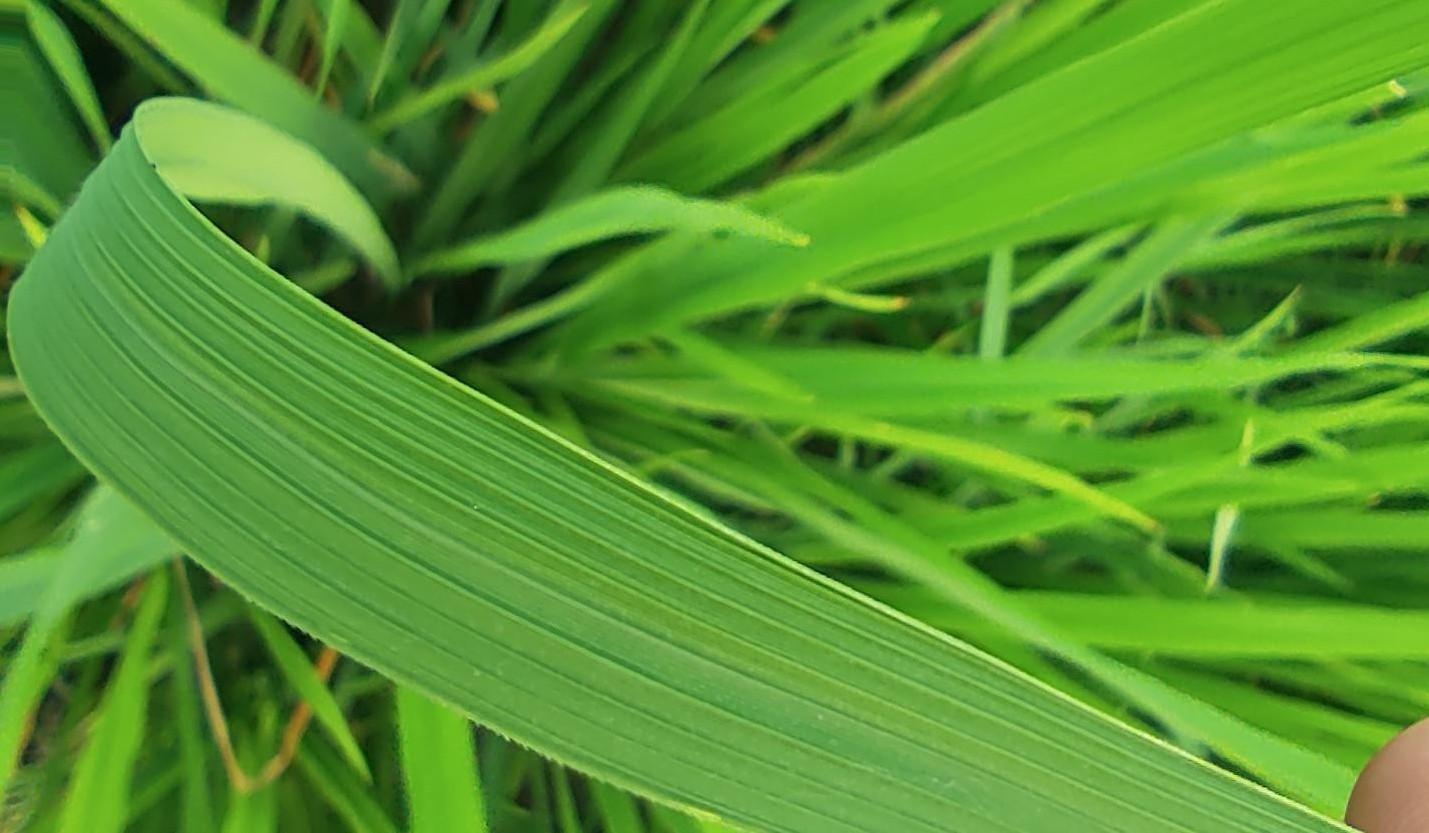Healthy: (9, 100, 1339, 832)
